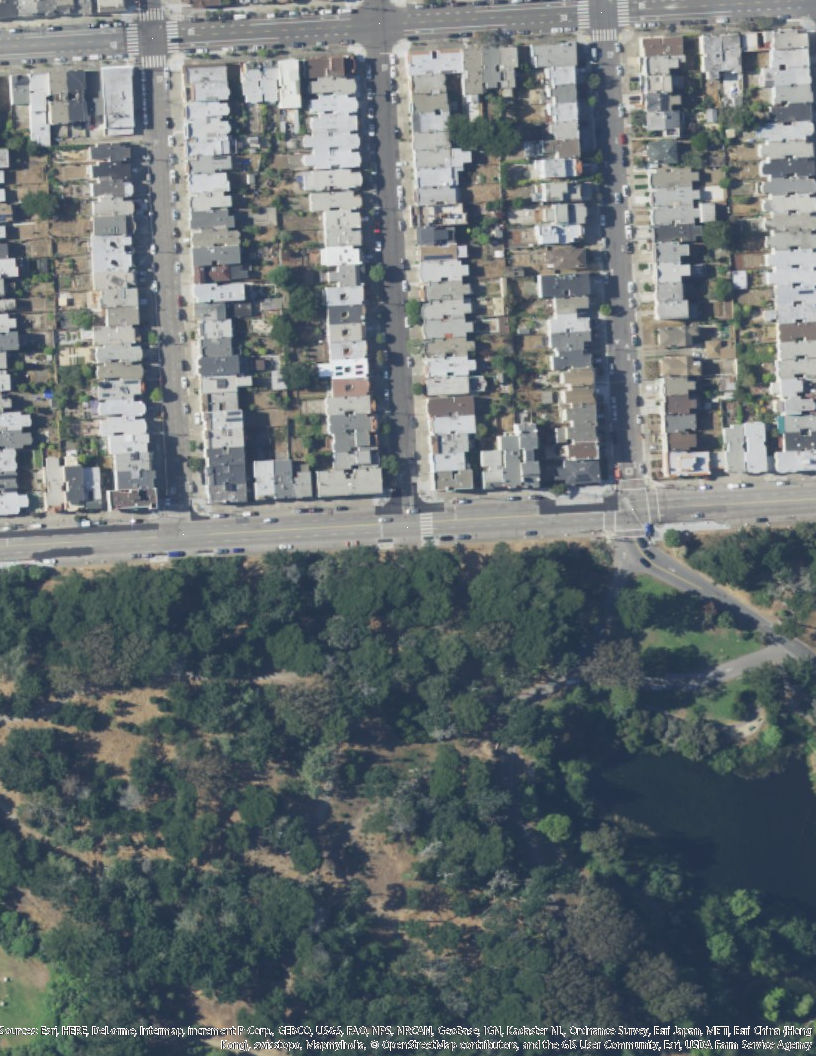zebracross: (124, 22, 140, 57), (165, 20, 181, 53), (614, 1, 631, 28), (576, 1, 591, 29), (138, 6, 164, 22), (419, 510, 433, 538), (592, 28, 619, 42), (140, 54, 167, 68)
